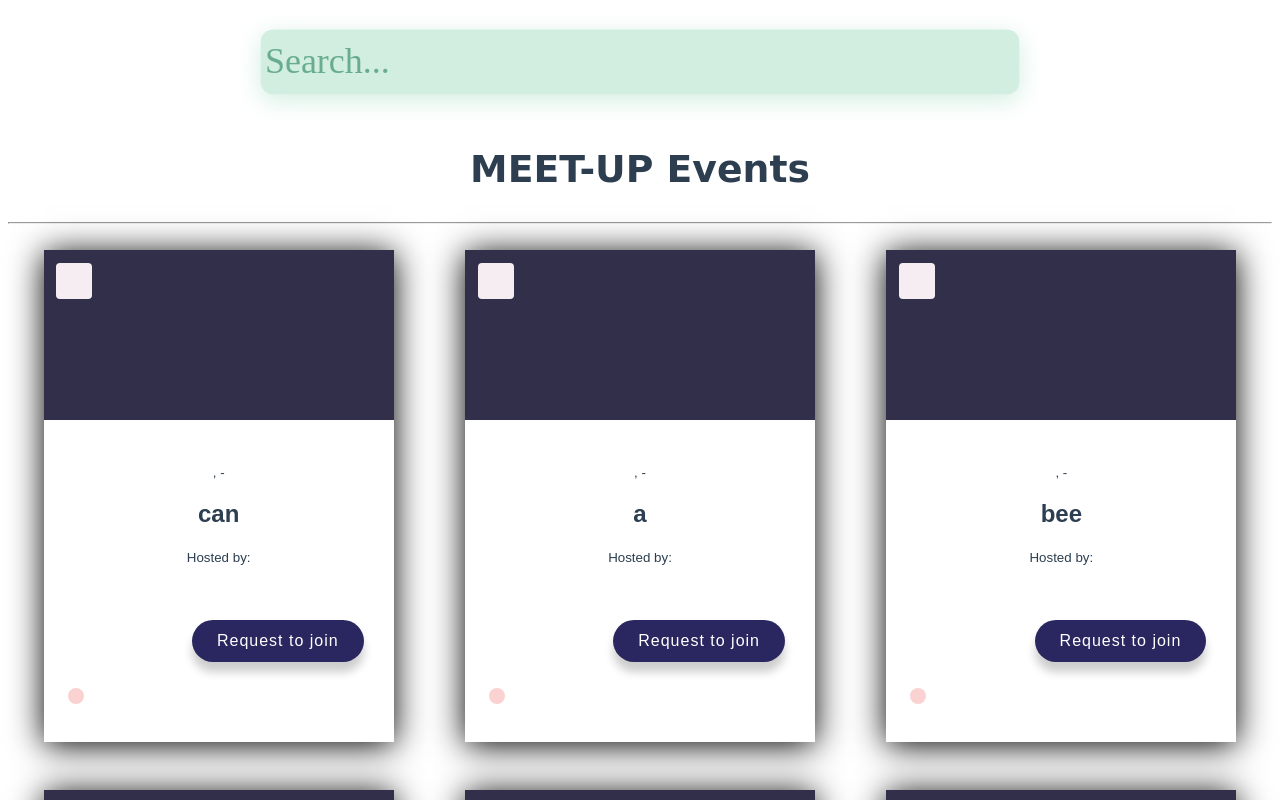
Test: MeetUpMainPage.vue › should search "c" and display "can" and "to much"
Type "c" into the field with placeholder "Search..." at (641, 62), box [264, 32, 1019, 91]
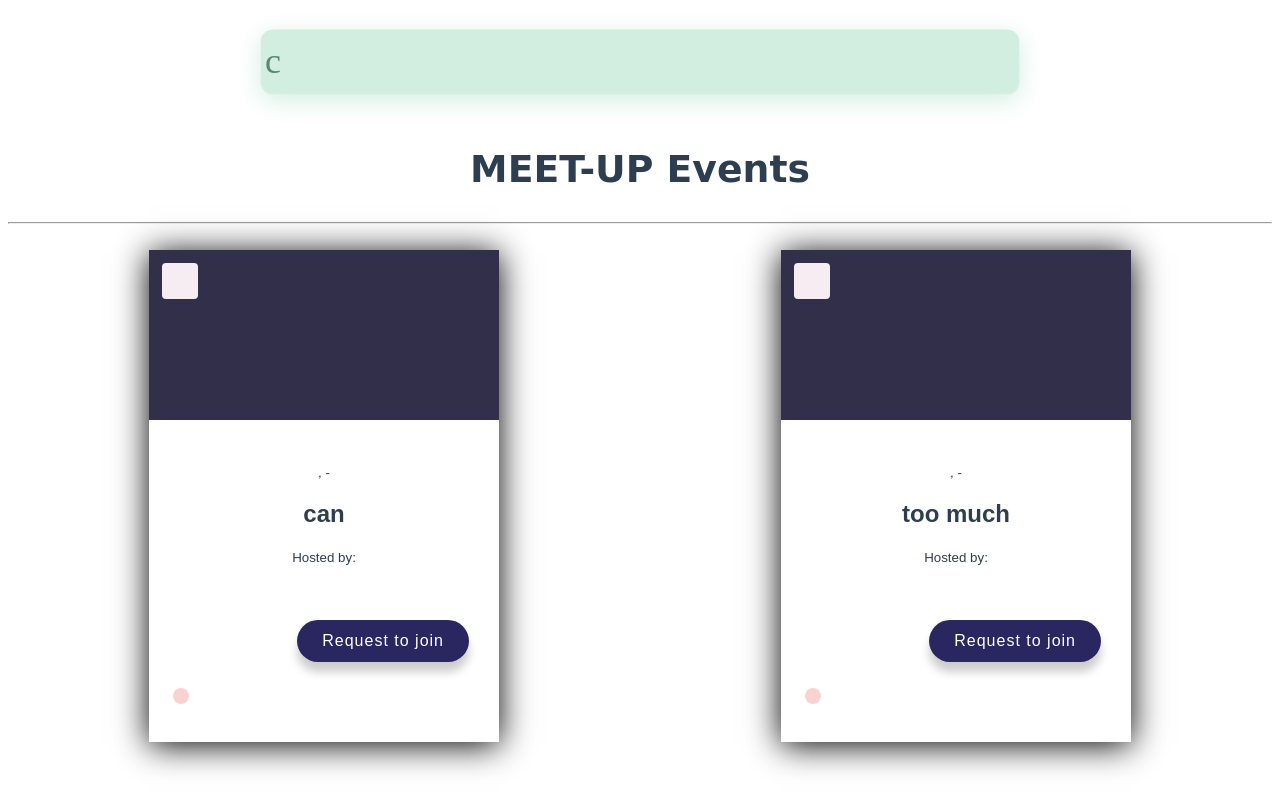
Expected: the number of headings with class "event-name" is 2, [303, 500, 345, 527]; [902, 500, 1010, 527]
